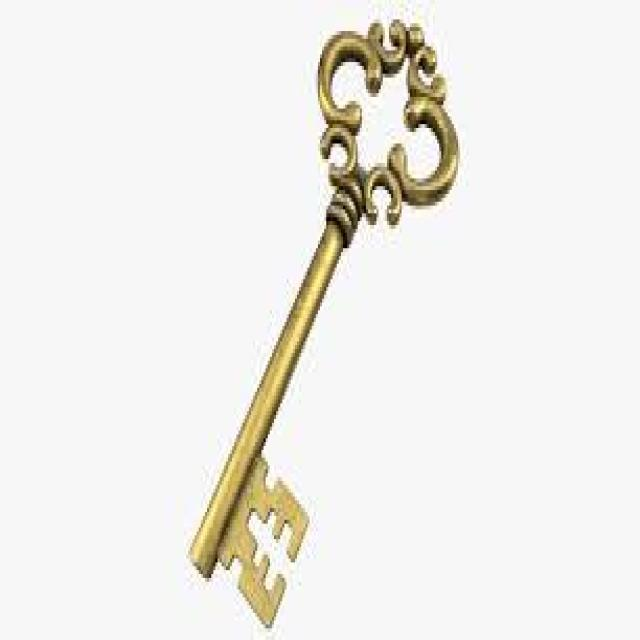key: (172, 6, 473, 640)
